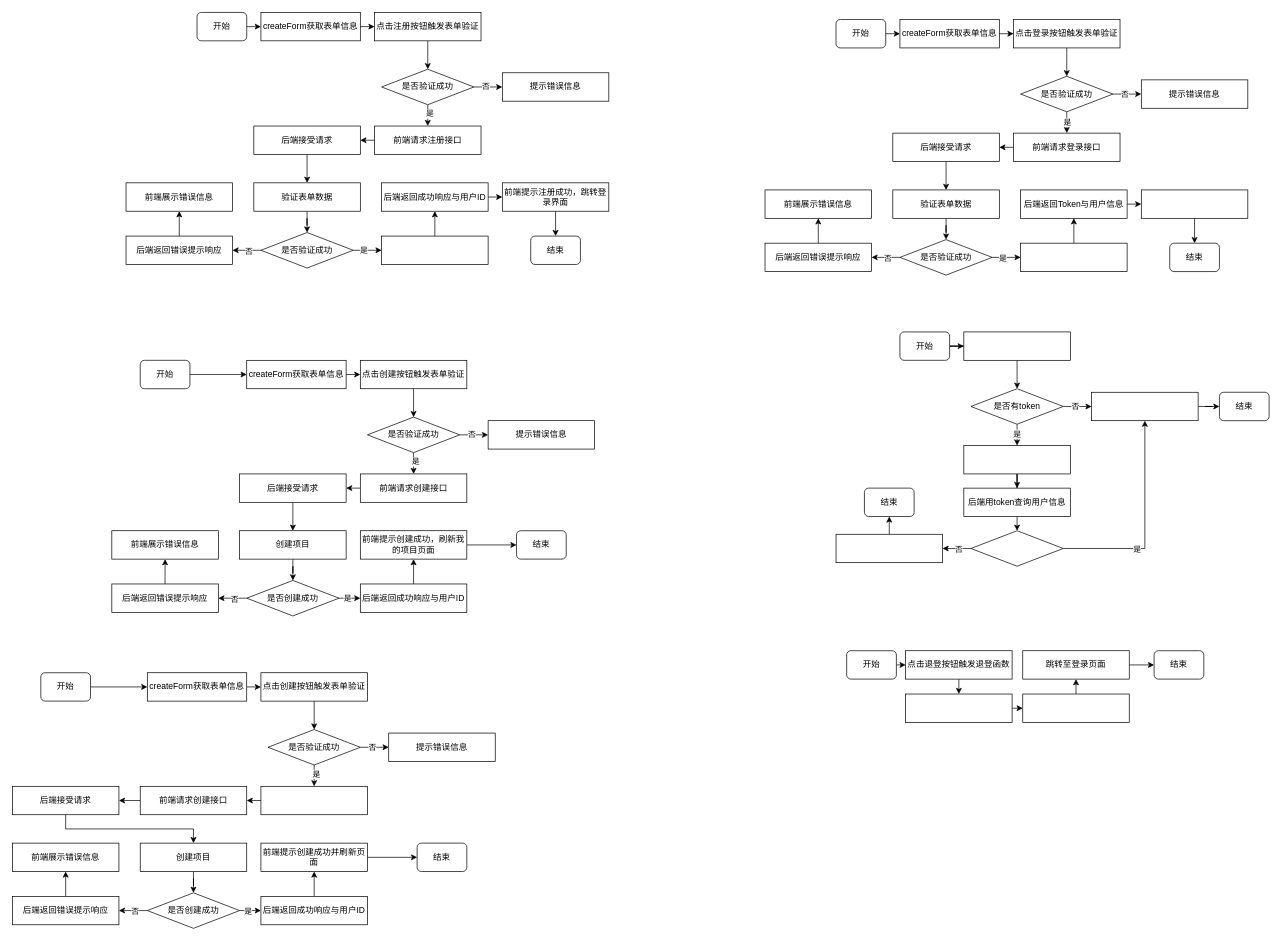
This 1282x941 diagram has some shape labels left out. Each missing label, with the box of its shape:
token是否过期: (970, 530, 1063, 566)
从localStroage获取token: (963, 331, 1070, 360)
创建用户，保存到数据库: (381, 235, 488, 264)
删除localStorage中token: (1022, 693, 1129, 722)
前端保存token与用户信息，跳转至首页: (1141, 189, 1248, 218)
清空userStore中用户信息: (905, 693, 1012, 722)
生成base64模型预览图: (260, 786, 367, 815)
生成JWT Token: (1020, 242, 1127, 272)
请求后端接口获取用户信息: (963, 445, 1070, 474)
跳转登录页面: (1091, 392, 1198, 421)
返回用户信息: (835, 534, 943, 563)
